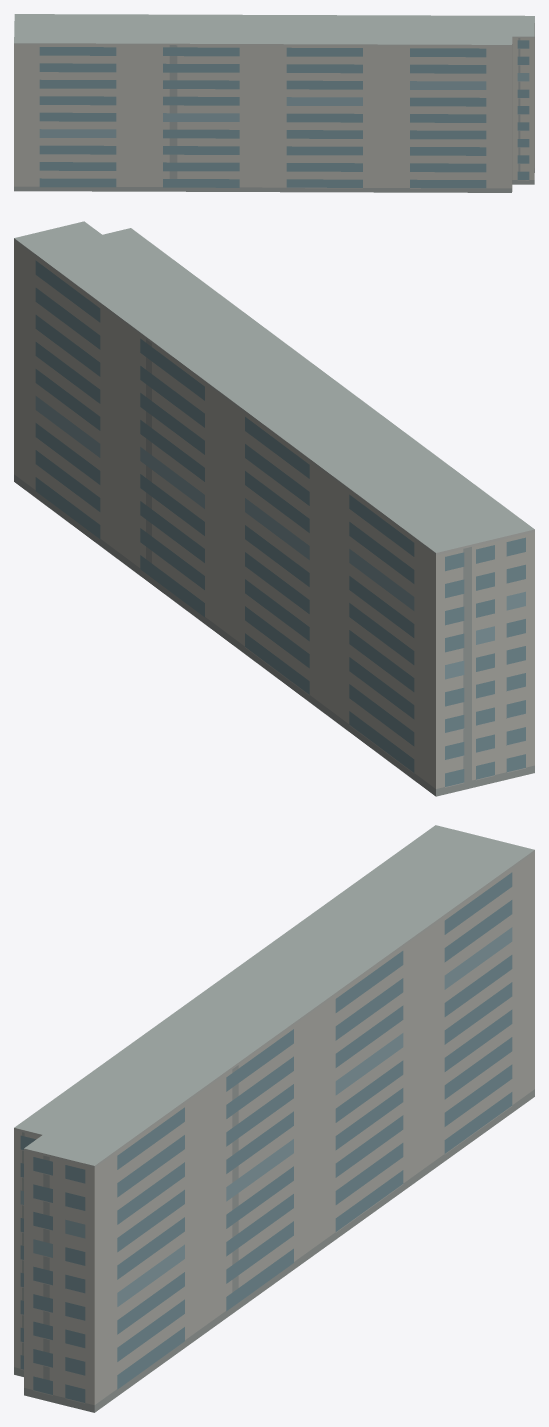
Rendered from residential-79b527c5-2691-4d47-83b0-7f67a601f525.glb.
The picture shows the model from 3 angles, top to bottom: view 1: azimuth 30°, elevation 25°; view 2: azimuth 150°, elevation 25°; view 3: azimuth 270°, elevation 25°; orthographic projection. The views are drawn at different scales.
Visible parts, largest first — view 1: residential-79b527c5-2691-4d47-83b0-7f67a601f525.tmp; view 2: residential-79b527c5-2691-4d47-83b0-7f67a601f525.tmp; view 3: residential-79b527c5-2691-4d47-83b0-7f67a601f525.tmp.
Boxes of the visible parts, <box> form: residential-79b527c5-2691-4d47-83b0-7f67a601f525.tmp: <box>14,14,534,192</box>; residential-79b527c5-2691-4d47-83b0-7f67a601f525.tmp: <box>14,221,534,796</box>; residential-79b527c5-2691-4d47-83b0-7f67a601f525.tmp: <box>14,825,534,1412</box>.
Size of the model in its own units: 76.99 by 26 by 49.71.
